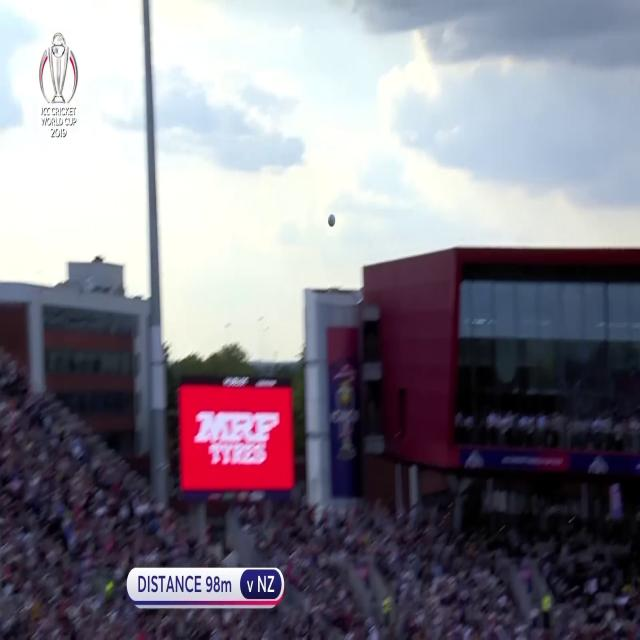ball: (327, 213, 336, 230)
